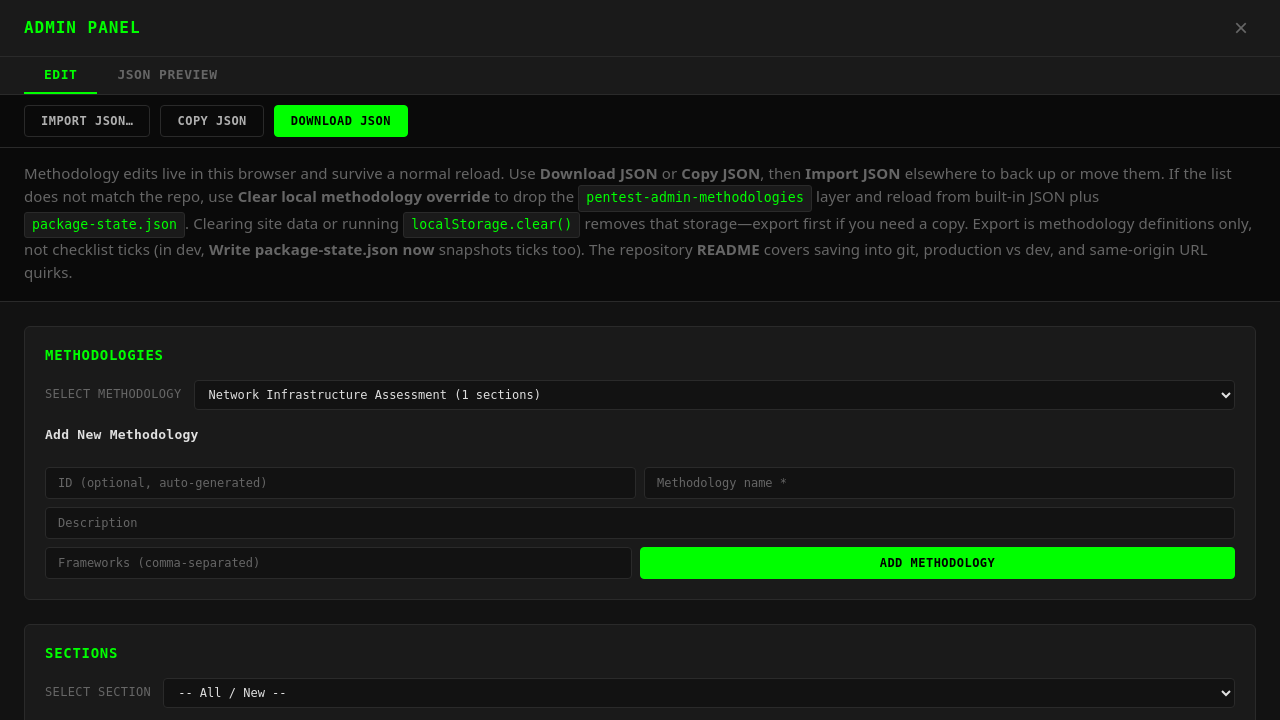
Scenario: AdminPanel › switches to preview tab and shows export buttons
This screenshot has width=1280, height=720.
Click the tab "JSON Preview" at [168, 76], box [97,57,238,94]
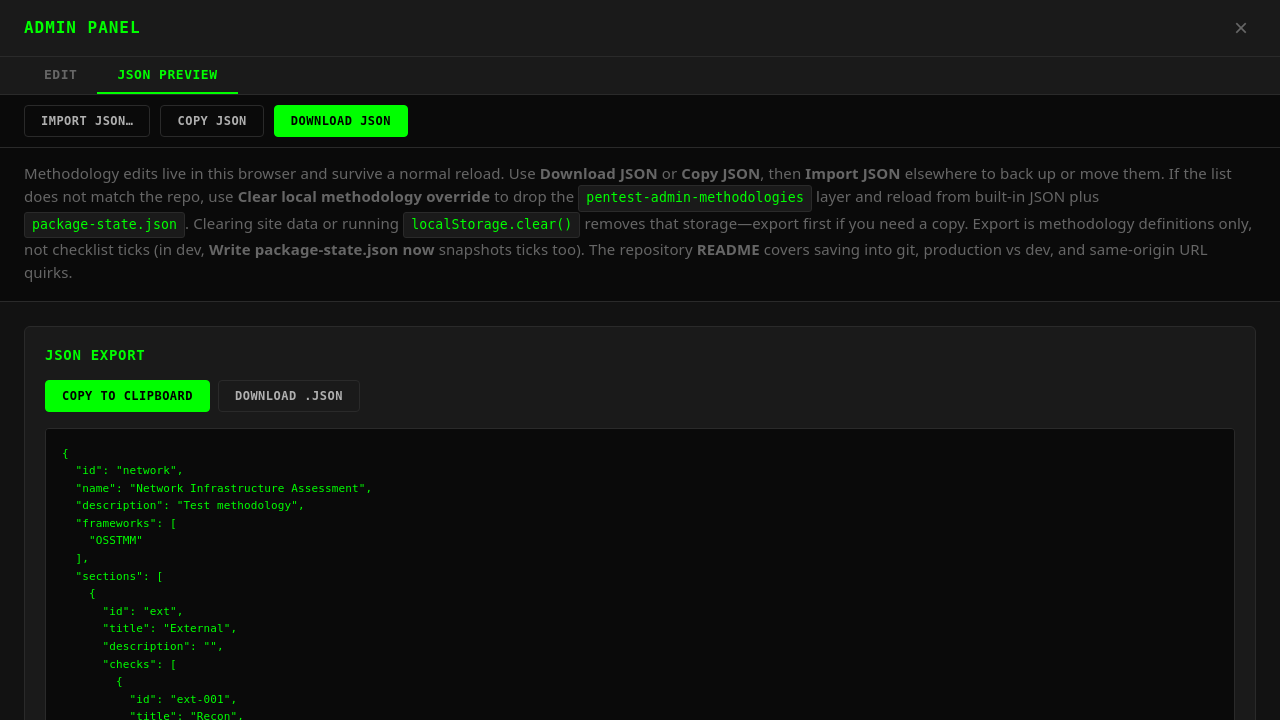
Expected: the button "Copy to Clipboard" is shown, [45,380,210,412]
Expected: the button "Download .json" is shown, [218,380,360,412]
